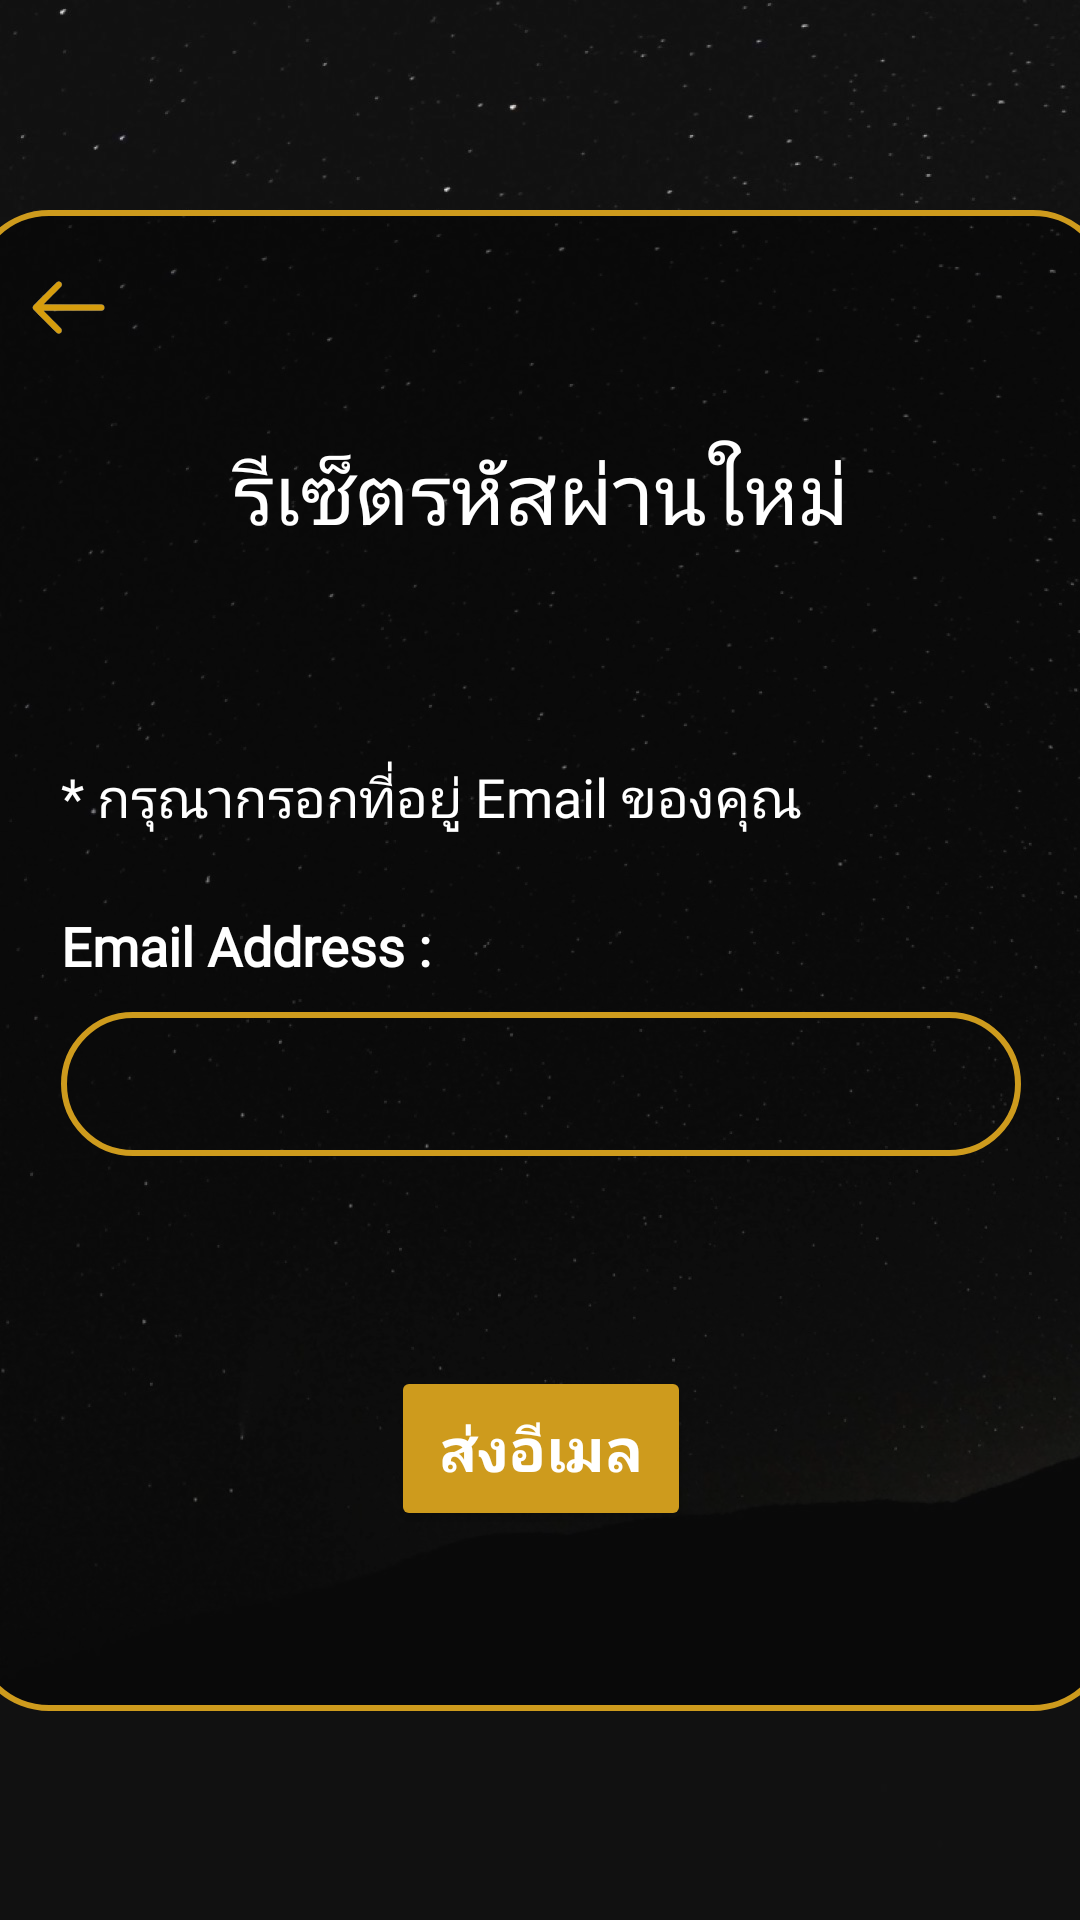

Point at icon controls on the screen. Image size 1080 x 1920, points as (x=x, y=y).
back: (x=68, y=307)
